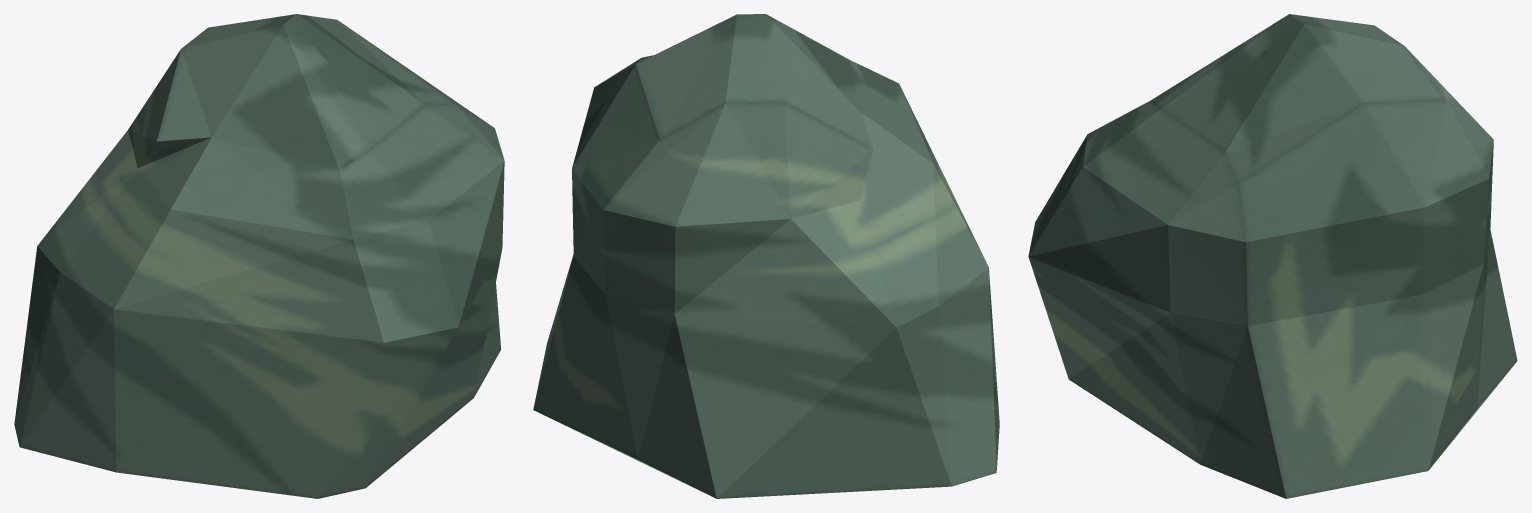
Rendered from small stone.FBX.
3 renders of one model, left to right at view 1: azimuth 30°, elevation 25°; view 2: azimuth 150°, elevation 25°; view 3: azimuth 270°, elevation 25°, orthographic.
Parts seen in each view (by area): view 1: small stoe; view 2: small stoe; view 3: small stoe.
Boxes of the visible parts, x1,y1,x2,y2 form: small stoe: (14, 14, 504, 498); small stoe: (533, 14, 999, 498); small stoe: (1028, 14, 1517, 498).
Size of the model in its own units: 1.69 by 1.32 by 1.54.
